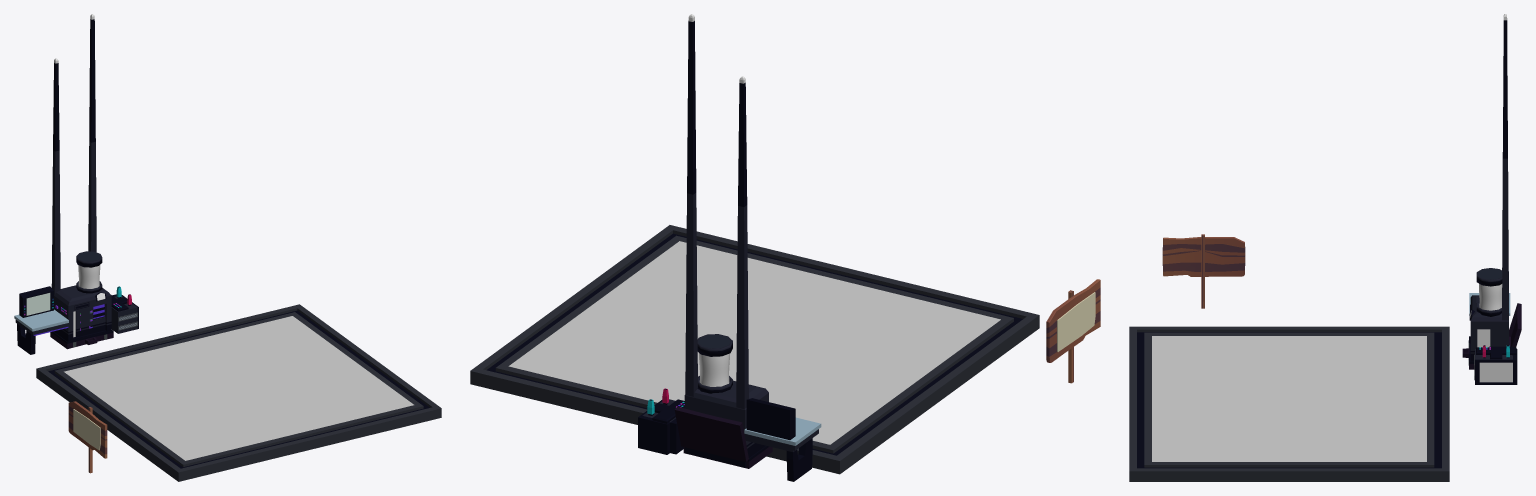
The model's file is Prop_Hockster.fbx.
3 views of the same model, side by side, from view 1: azimuth 30°, elevation 25°; view 2: azimuth 150°, elevation 25°; view 3: azimuth 270°, elevation 25° (orthographic). The views are drawn at different scales.
Visible parts, largest first — view 1: Cube.879, Cube.896, Cube.1315; view 2: Cube.879, Cube.896, Cube.1315; view 3: Cube.879, Cube.896, Cube.1315.
Part boxes in pixels (bbox=[...]): Cube.879: bbox=[36, 304, 441, 481]; Cube.896: bbox=[14, 14, 138, 354]; Cube.1315: bbox=[68, 401, 107, 473]; Cube.879: bbox=[470, 225, 1039, 474]; Cube.896: bbox=[638, 14, 821, 481]; Cube.1315: bbox=[1046, 279, 1100, 383]; Cube.879: bbox=[1129, 326, 1449, 481]; Cube.896: bbox=[1462, 14, 1521, 384]; Cube.1315: bbox=[1162, 234, 1245, 308].
Size of the model in its own units: 424 by 411 by 397.
